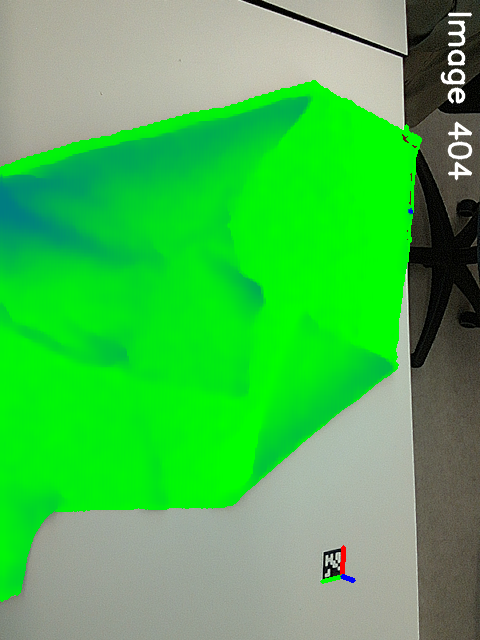V: (278, 304, 334, 350), (215, 355, 260, 407)
